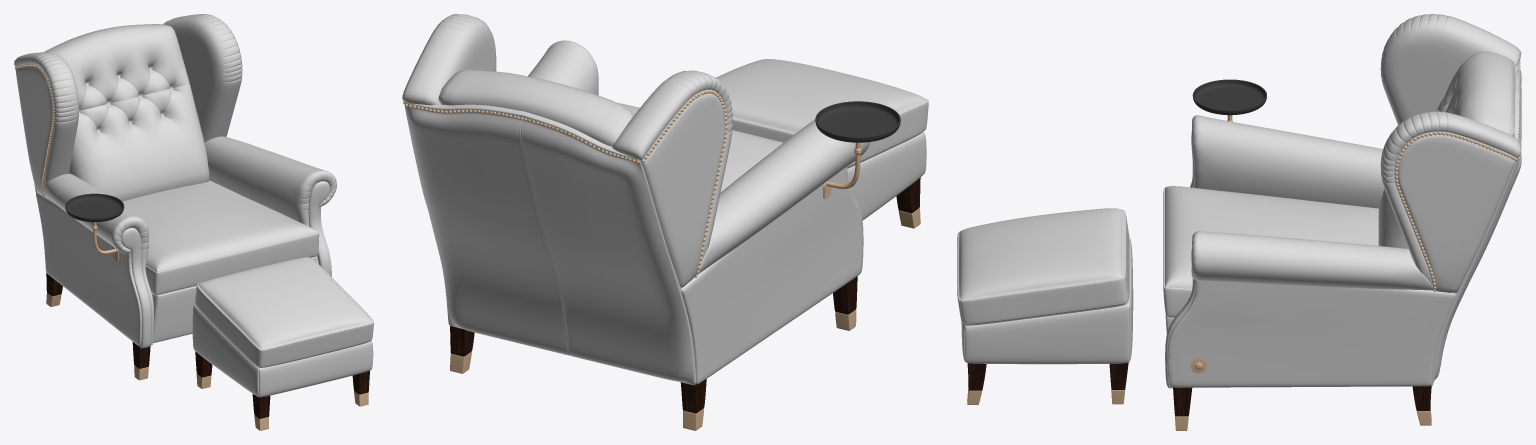
File: SLN_CORNELL.glb
The picture shows the model from 3 angles, left to right: view 1: azimuth 30°, elevation 25°; view 2: azimuth 150°, elevation 25°; view 3: azimuth 270°, elevation 25°; orthographic projection. The views are drawn at different scales.
Parts seen in each view (by area): view 1: CORNELL; view 2: CORNELL; view 3: CORNELL.
Part boxes in pixels (x1,y1,x2,y2): CORNELL: (14,14,373,430); CORNELL: (402,14,928,430); CORNELL: (957,14,1521,430).
Bounding box in the file's own units: 0.9591 × 0.8812 × 1.47.
Materials: 4 (1 with a texture image).
